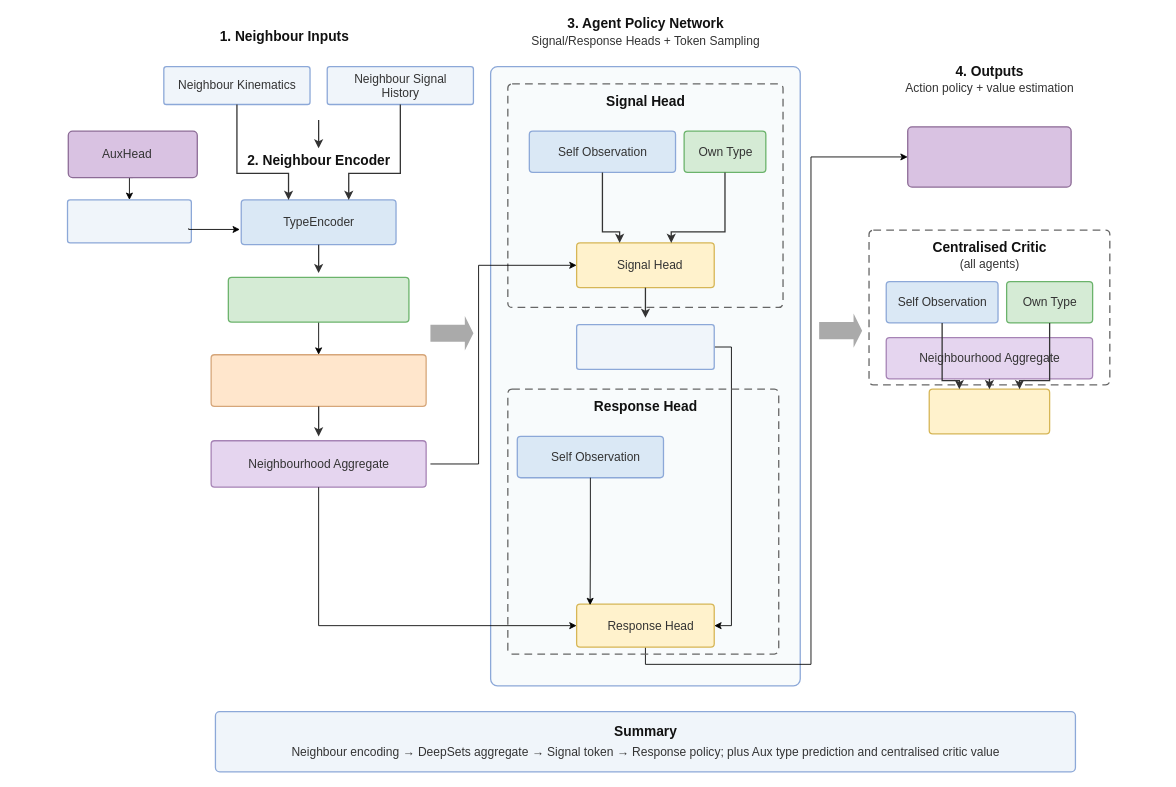
Some shapes in this 1176 by 787 pixel diagram are drawn without their labels. Each missing label, with the centre of its shape:
Action Distribution: [989,156]
DeepSets Aggregator (permutation-invariant): [318,380]
Neighbour Embedding: [318,299]
Sampled Token: [645,347]
State Value: [989,411]
Type Prediction: [129,221]
